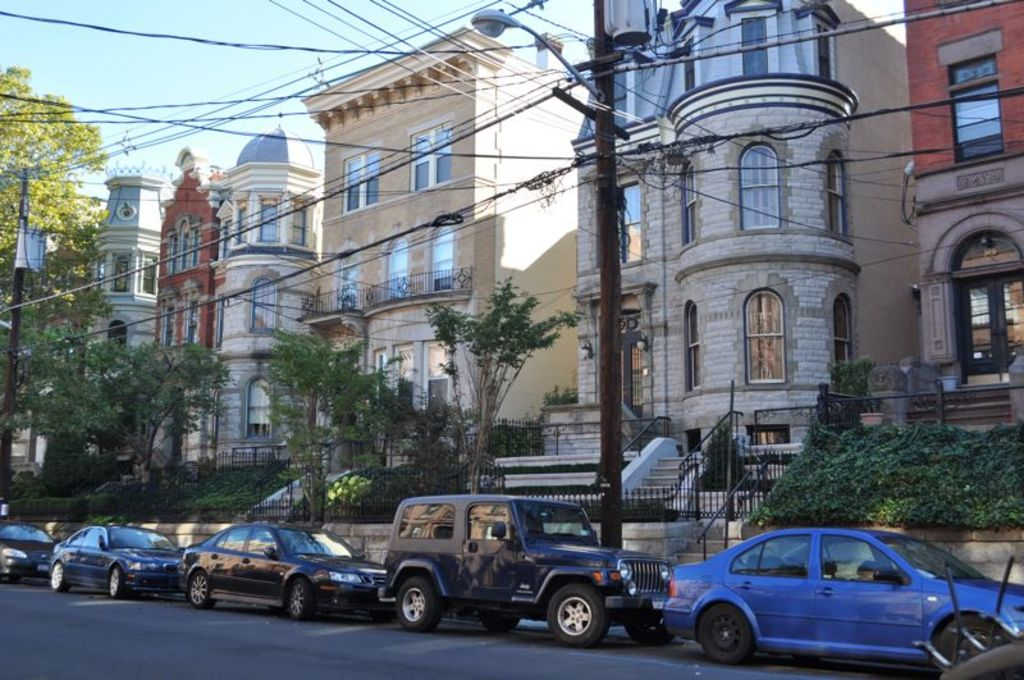Car: (664, 521, 1022, 667), (378, 489, 674, 653), (177, 519, 387, 621), (38, 521, 184, 595), (0, 518, 56, 582)
